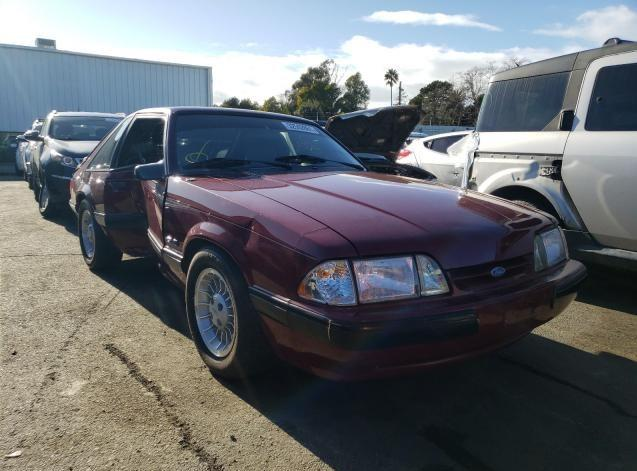Back-wheel: (77, 199, 123, 271)
Back-window: (87, 116, 134, 168)
Fender: (159, 176, 360, 302)
Front-bumper: (247, 256, 585, 384)
Front-door: (102, 112, 169, 259)
Front-wheel: (185, 241, 289, 380)
Front-window: (114, 118, 164, 169)
Grille: (442, 254, 535, 293)
Headlight: (295, 254, 451, 306), (534, 226, 568, 271)
Hood: (213, 171, 557, 270)
Mirror: (134, 159, 166, 182)
Quarter-panel: (71, 166, 109, 235)
Roof: (144, 106, 315, 124)
Tail-light: (69, 170, 78, 199)
Windshield: (173, 110, 365, 176)
